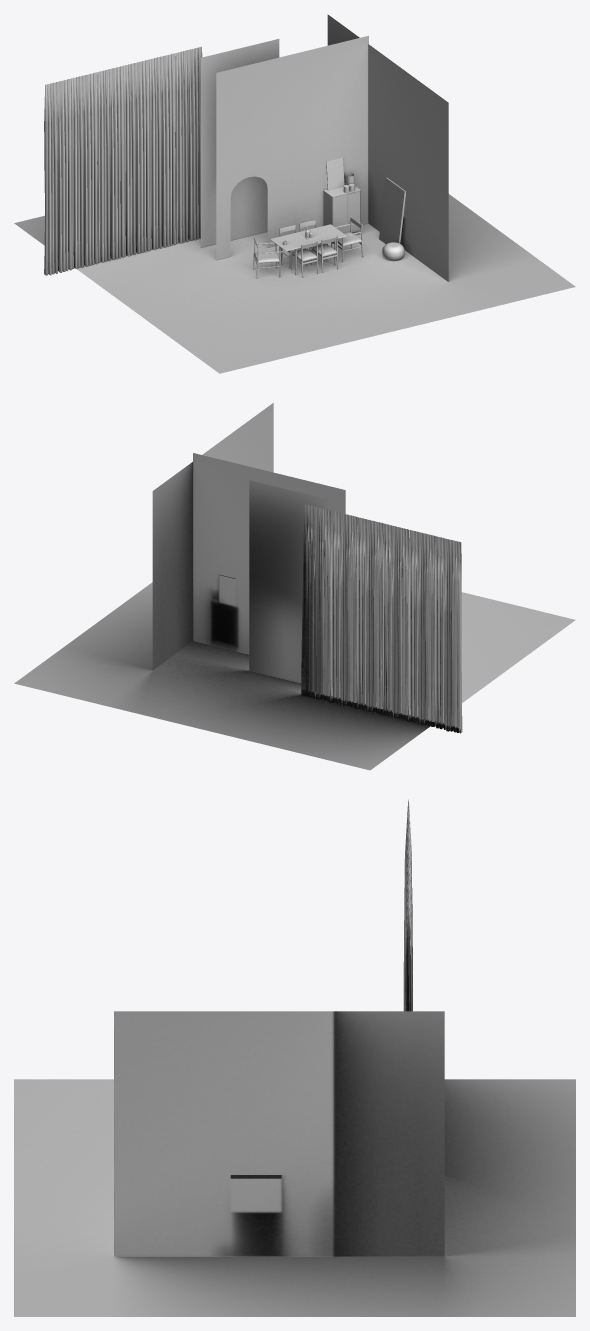
File: room.obj
3 views of the same model, one above another, from view 1: azimuth 30°, elevation 25°; view 2: azimuth 150°, elevation 25°; view 3: azimuth 270°, elevation 25° (orthographic). The views are drawn at different scales.
Parts seen in each view (by area): view 1: polySurface210; view 2: polySurface210; view 3: polySurface210.
Boxes of the visible parts, x1,y1,x2,y2 form: polySurface210: [14, 14, 575, 373]; polySurface210: [14, 403, 575, 770]; polySurface210: [14, 799, 575, 1316].
Bounding box in the file's own units: 8.46 × 4.3 × 7.8.
Materials: 1 (1 with a texture image).
